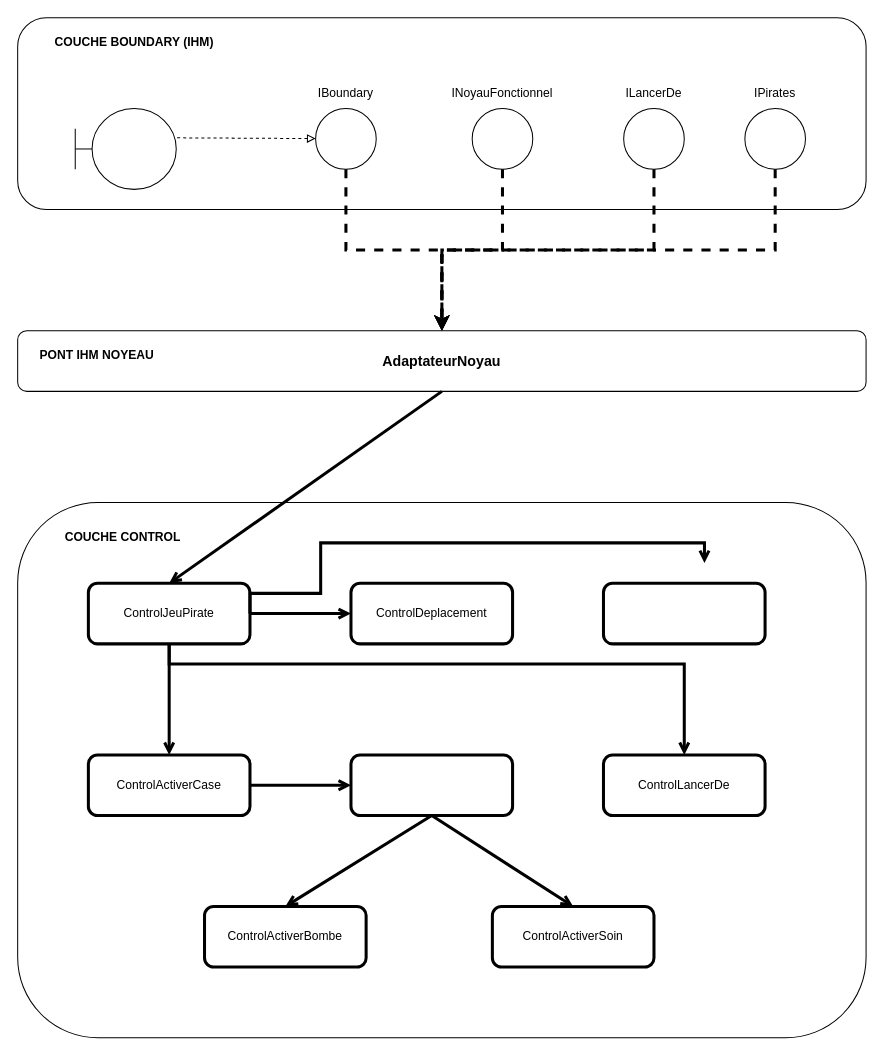
The diagram is 884 pixels wide and 1055 high, and some of its shapes have lost their labels. Here are the shapes that lost their labels. From the top down, the centre of each, then its label:
(125,148): Boundary
(683,613): ControlVerifFin
(431,785): ControlSpécial
